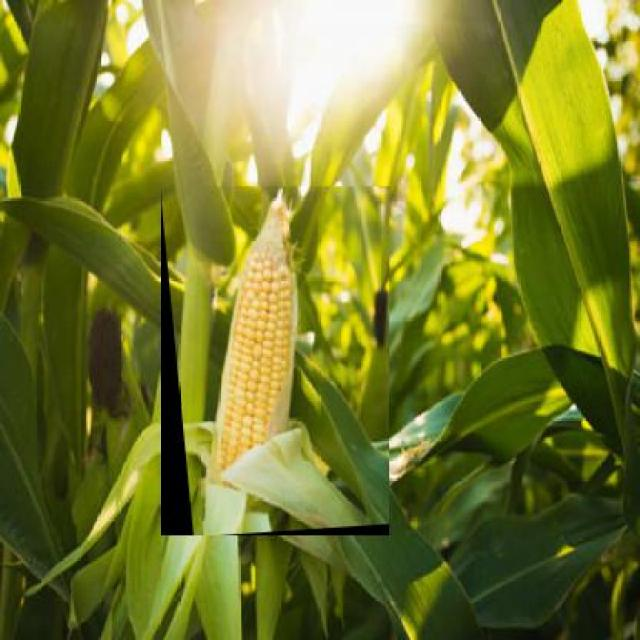Corn: (160, 186, 391, 537)
